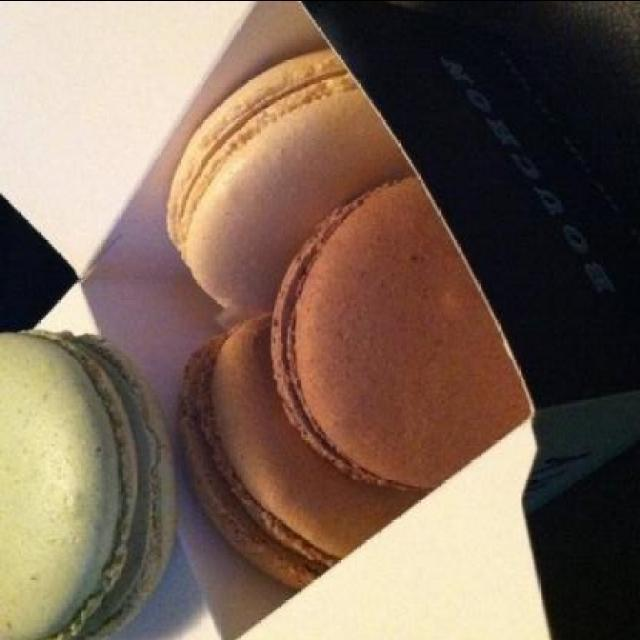Macaron: (174, 36, 516, 578), (2, 318, 170, 640)
